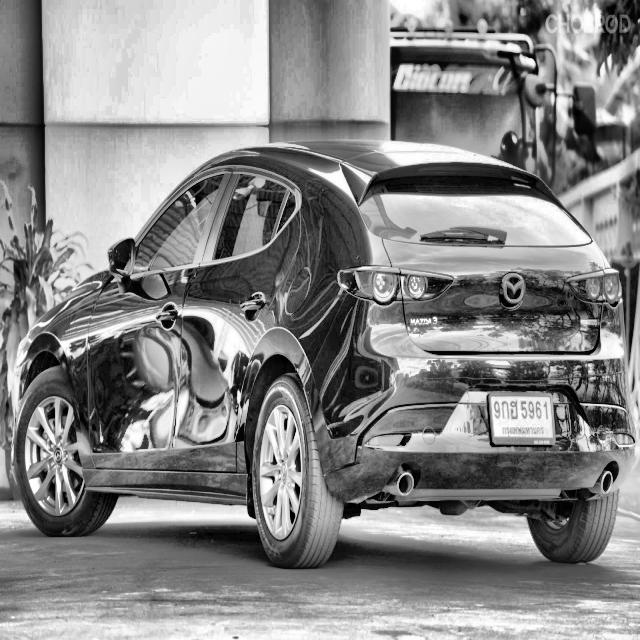license-plate: (486, 385, 558, 448)
